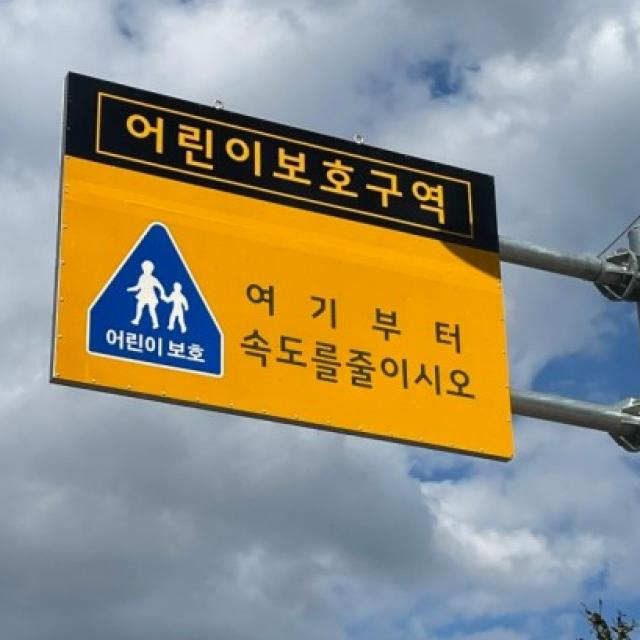Indication_Children_Protection: (78, 212, 237, 387)
